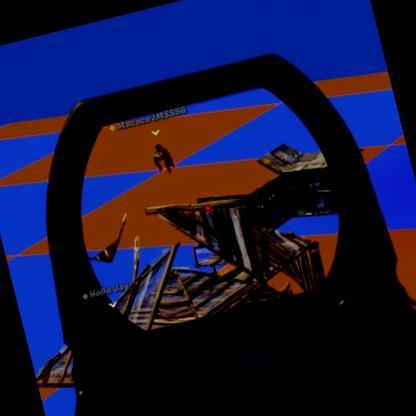person: (148, 141, 176, 178)
